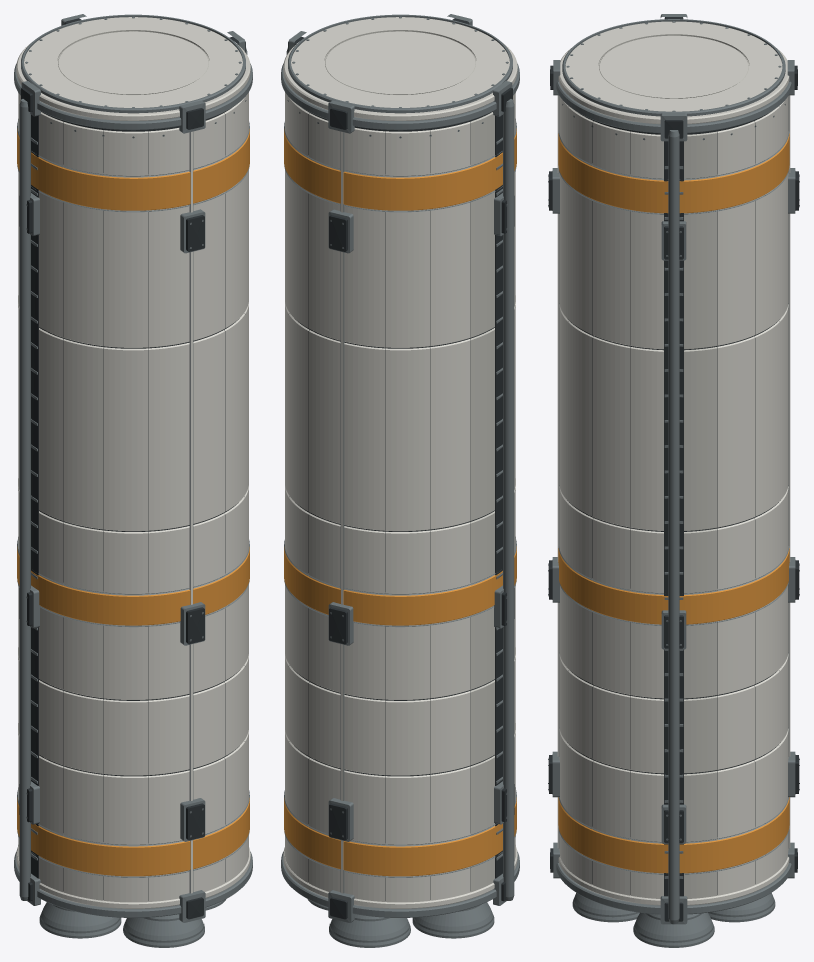
The model's file is booster_1.glb.
The picture shows the model from 3 angles, left to right: view 1: azimuth 30°, elevation 25°; view 2: azimuth 150°, elevation 25°; view 3: azimuth 270°, elevation 25°; orthographic projection.
Visible parts, largest first — view 1: Segmented ivory jacket, End collars and sealed top cover, Three amber identification bands, Twin service rails and cable channels, Rail clamps and end latches, Four hollow exhaust nozzles, Continuous motor casing; view 2: Segmented ivory jacket, End collars and sealed top cover, Three amber identification bands, Twin service rails and cable channels, Rail clamps and end latches, Four hollow exhaust nozzles, Continuous motor casing; view 3: Segmented ivory jacket, End collars and sealed top cover, Three amber identification bands, Twin service rails and cable channels, Rail clamps and end latches, Four hollow exhaust nozzles, Continuous motor casing.
Boxes of the visible parts, bbox=[...] form: Segmented ivory jacket: bbox=[18, 92, 248, 902]; End collars and sealed top cover: bbox=[14, 14, 252, 917]; Three amber identification bands: bbox=[17, 119, 249, 877]; Twin service rails and cable channels: bbox=[19, 48, 247, 900]; Rail clamps and end latches: bbox=[19, 14, 245, 922]; Four hollow exhaust nozzles: bbox=[39, 899, 226, 947]; Continuous motor casing: bbox=[39, 108, 244, 900]; Segmented ivory jacket: bbox=[285, 92, 515, 902]; End collars and sealed top cover: bbox=[281, 14, 519, 917]; Three amber identification bands: bbox=[284, 119, 516, 877]; Twin service rails and cable channels: bbox=[286, 48, 514, 900]; Rail clamps and end latches: bbox=[288, 14, 514, 922]; Four hollow exhaust nozzles: bbox=[307, 899, 494, 947]; Continuous motor casing: bbox=[289, 108, 494, 900]; Segmented ivory jacket: bbox=[557, 95, 790, 898]; End collars and sealed top cover: bbox=[556, 19, 791, 914]; Three amber identification bands: bbox=[558, 131, 789, 874]; Twin service rails and cable channels: bbox=[664, 130, 683, 924]; Rail clamps and end latches: bbox=[548, 14, 799, 924]; Four hollow exhaust nozzles: bbox=[572, 893, 775, 947]; Continuous motor casing: bbox=[567, 106, 780, 894].
Size of the model in its own units: 1.47 by 5.27 by 1.43.
